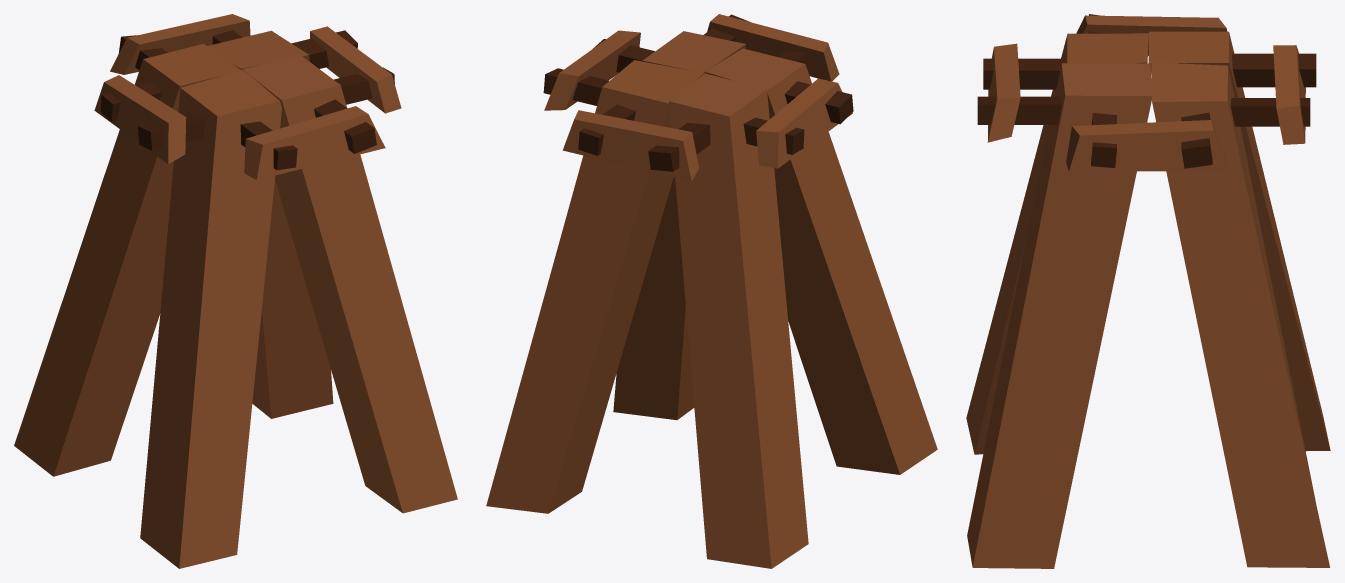
The model's file is windmill_top.glb.
3 views of the same model, side by side, from view 1: azimuth 30°, elevation 25°; view 2: azimuth 150°, elevation 25°; view 3: azimuth 270°, elevation 25° (orthographic). The views are drawn at different scales.
Parts seen in each view (by area): view 1: windmill_top; view 2: windmill_top; view 3: windmill_top.
Part boxes in pixels (x1=…): windmill_top: x1=14, y1=14, x2=457, y2=568; windmill_top: x1=486, y1=14, x2=937, y2=568; windmill_top: x1=966, y1=14, x2=1330, y2=568.
Size of the model in its own units: 0.7551 by 1.03 by 0.7742.
